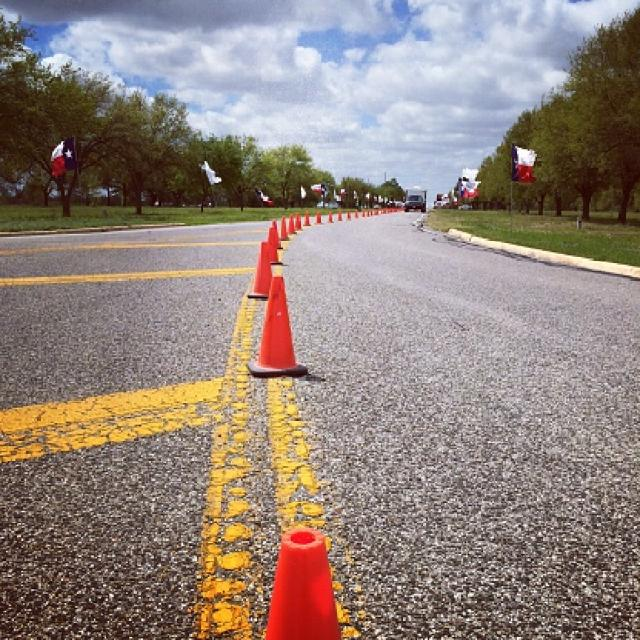cone: (257, 528, 340, 638), (246, 277, 309, 377), (248, 240, 278, 297), (266, 225, 280, 263), (302, 209, 309, 225)
